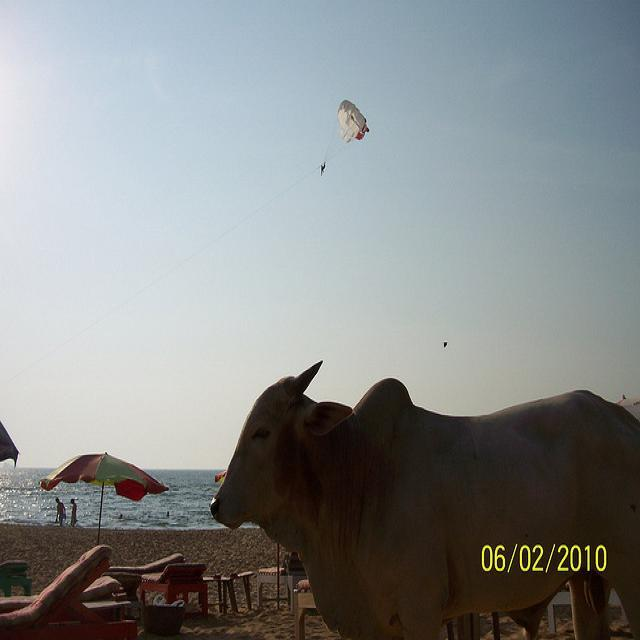cow: (208, 358, 639, 639)
